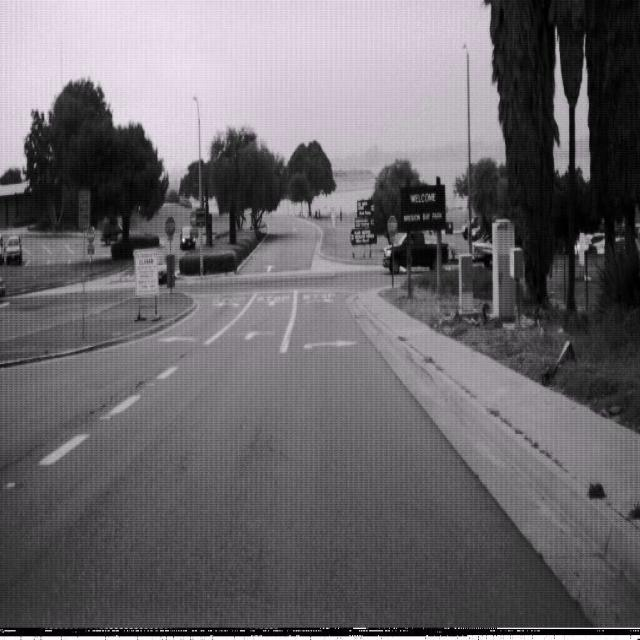stop: (164, 214, 176, 238), (387, 213, 398, 237)
